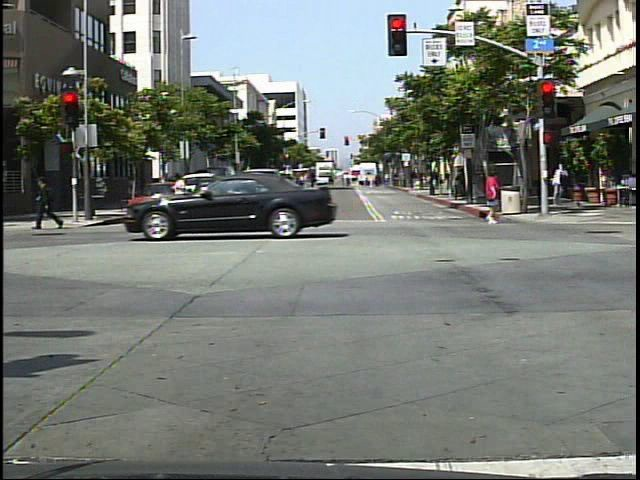person: (30, 169, 66, 235), (473, 170, 510, 232), (168, 170, 201, 235), (549, 160, 571, 206)
